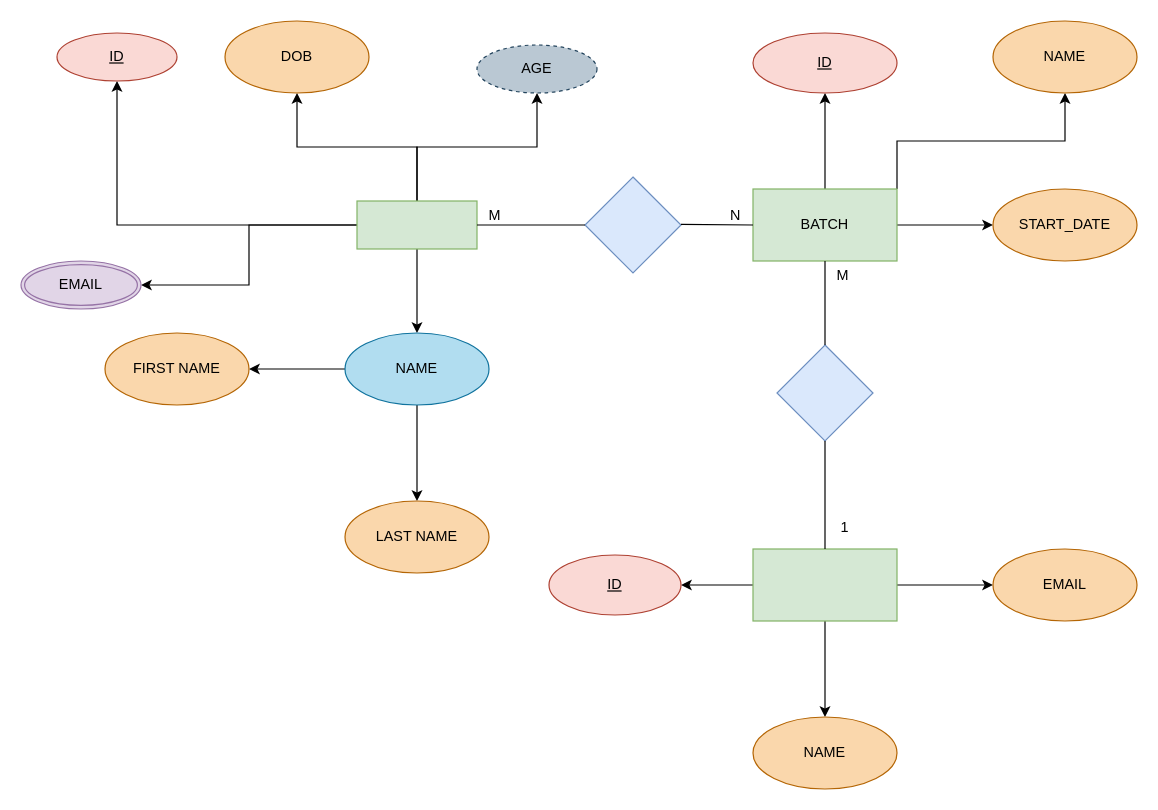
This 1158x810 diagram has some shape labels left out. Here are the shapes that lost their labels. From the top down, the centre of each, then its label:
At (x=416, y=224): "STUDENT".
At (x=632, y=224): "JOINS".
At (x=824, y=392): "HAS A".
At (x=824, y=584): "MENTOR".
